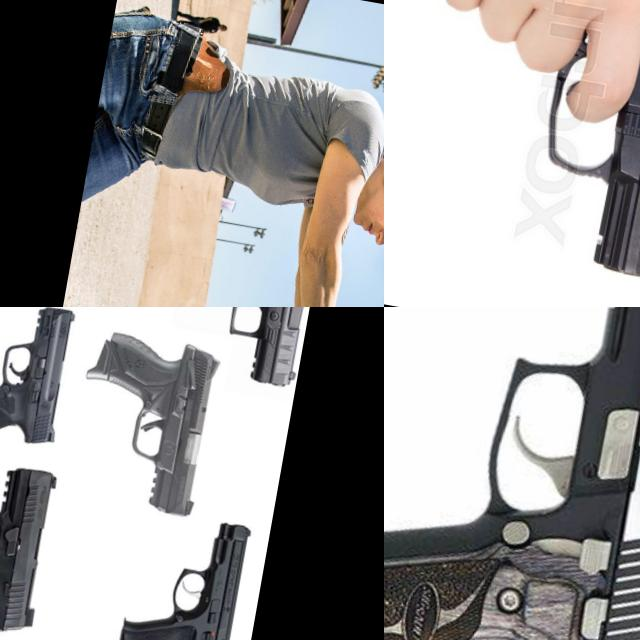handgun: (384, 307, 640, 640), (515, 0, 640, 289), (60, 323, 227, 521), (112, 506, 256, 640), (0, 448, 85, 640), (174, 307, 325, 405), (0, 307, 125, 402), (0, 307, 78, 454)
